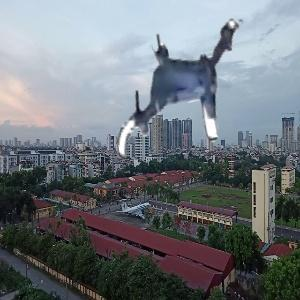drone: (100, 20, 259, 179)
